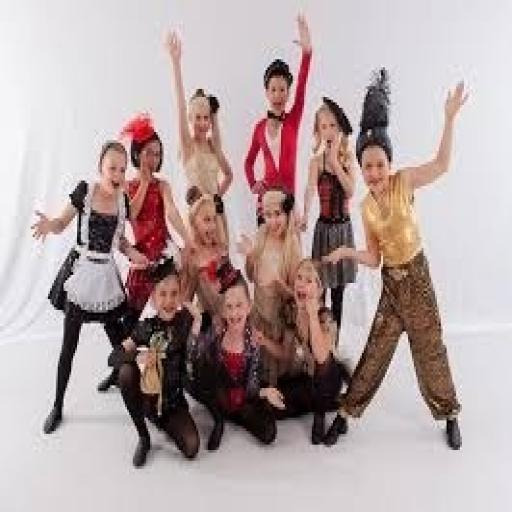dancing: (320, 64, 474, 452), (29, 138, 150, 440)
